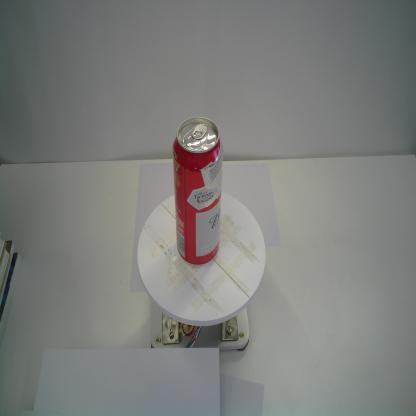Alcohol: (172, 116, 224, 266)
